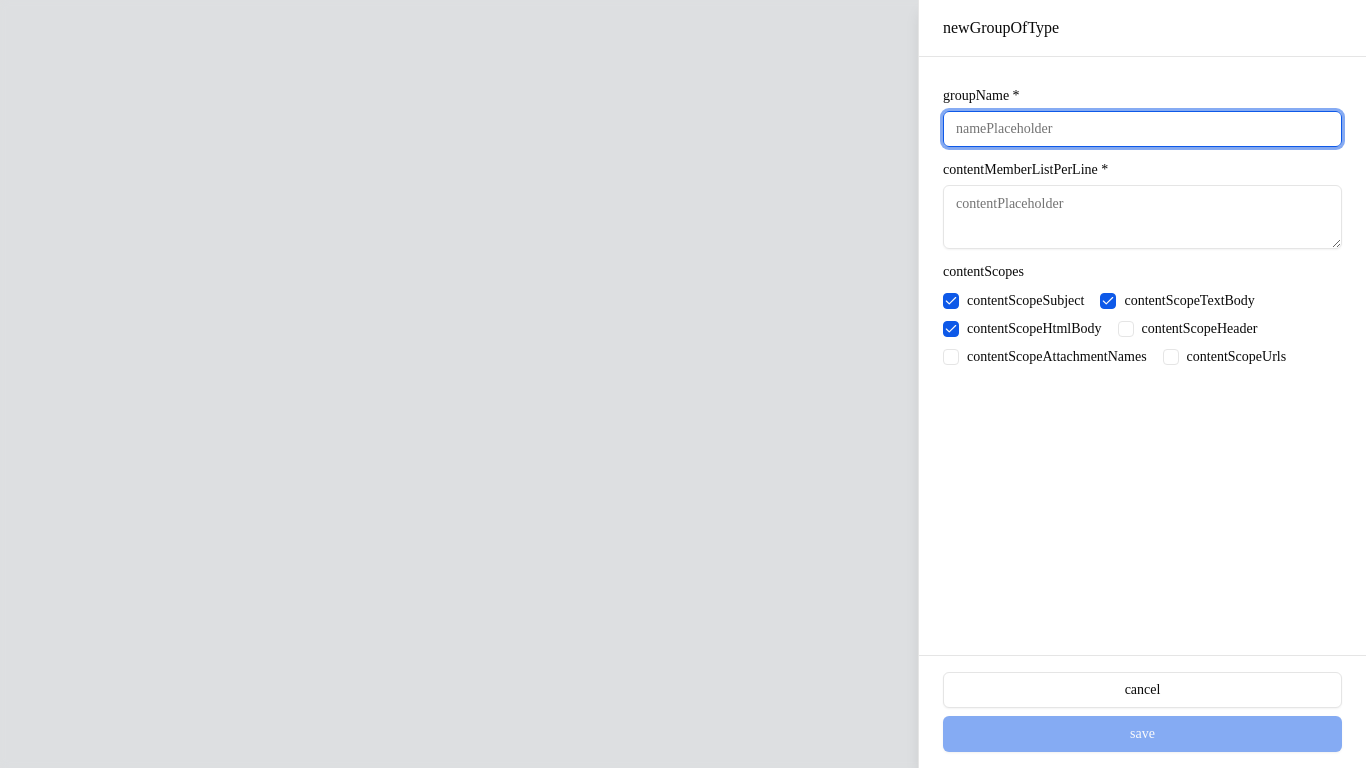
Test: GroupEditDialog content scopes (GT-12802) › keeps save disabled until at least one scope is chosen
The image size is (1366, 768).
Step 1. Type "fingroup" into the field with test id "group-edit-name" → {"x": 1142, "y": 129}, box [943,111,1342,147]
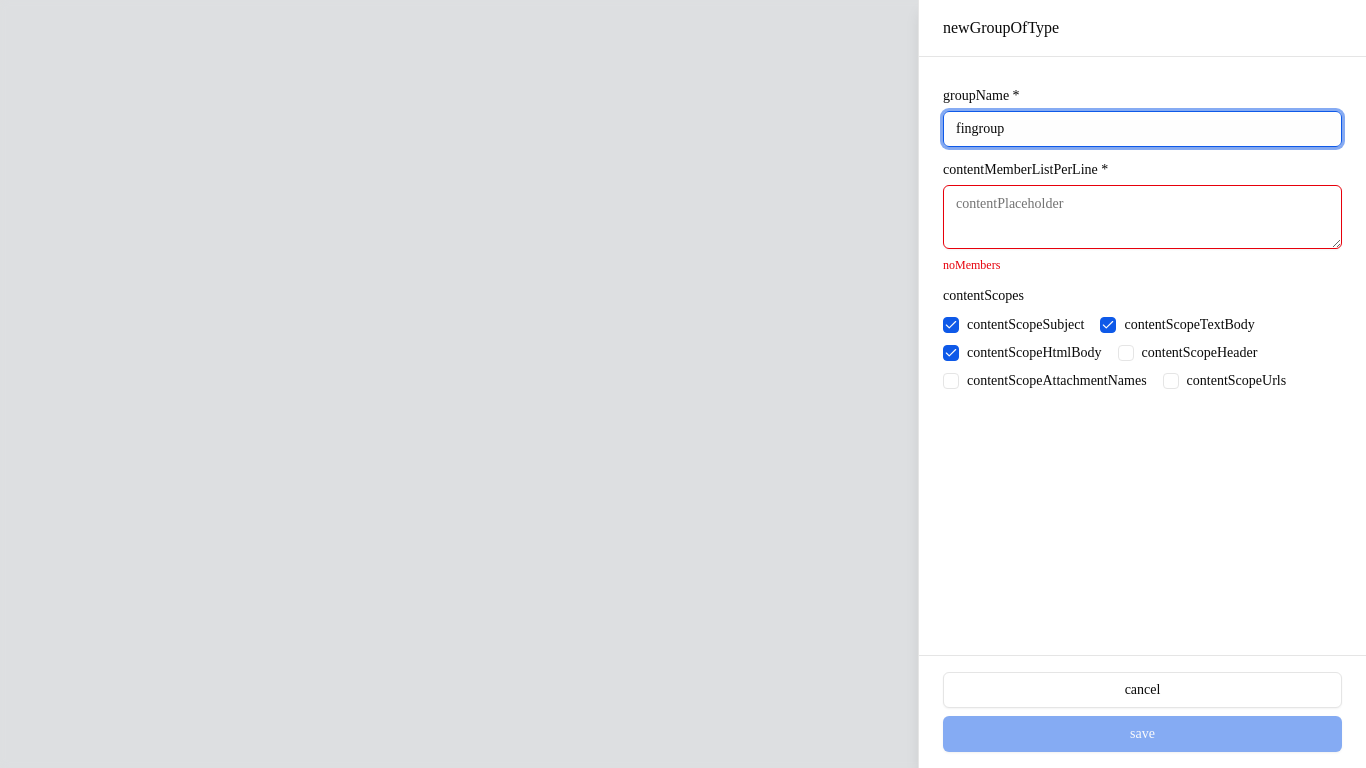
Step 2. Type "invoice" into the text box with test id "group-edit-members" → {"x": 1142, "y": 217}, box [943,185,1342,249]
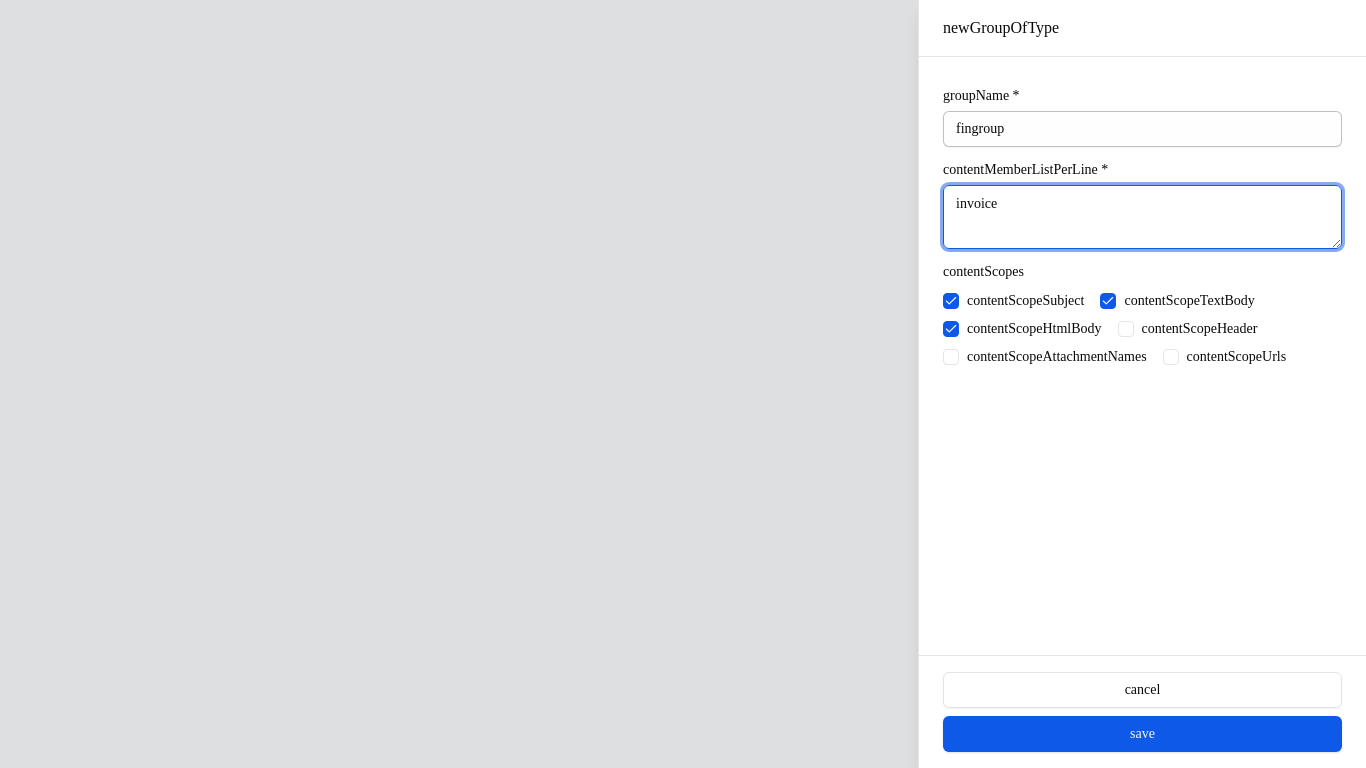
Note: 取消全部三个默认 scope
Step 3. Click the checkbox with test id "group-edit-scope-subject" → {"x": 951, "y": 301}, box [943,293,959,309]
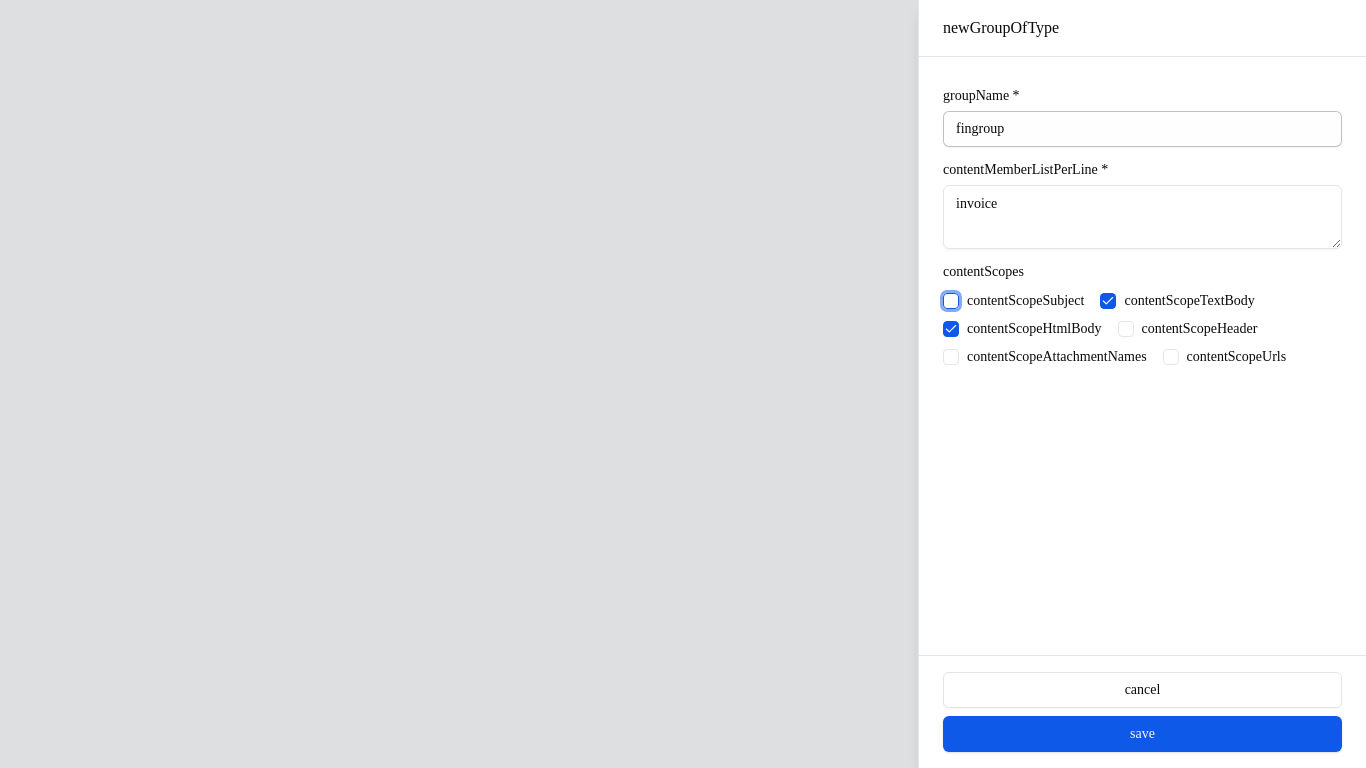
Step 4. Click the checkbox with test id "group-edit-scope-text_body" → {"x": 1108, "y": 301}, box [1100,293,1116,309]
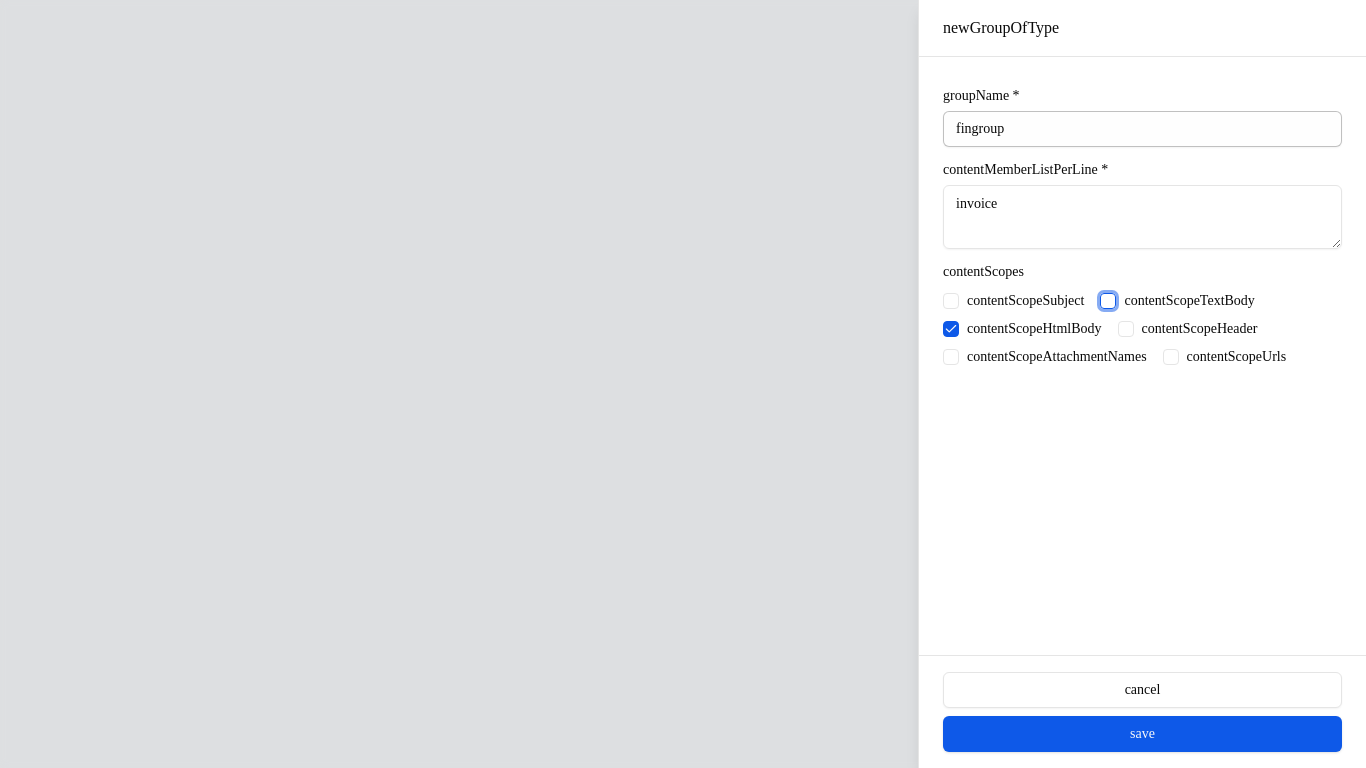
Step 5. Click the checkbox with test id "group-edit-scope-html_body" → {"x": 951, "y": 329}, box [943,321,959,337]
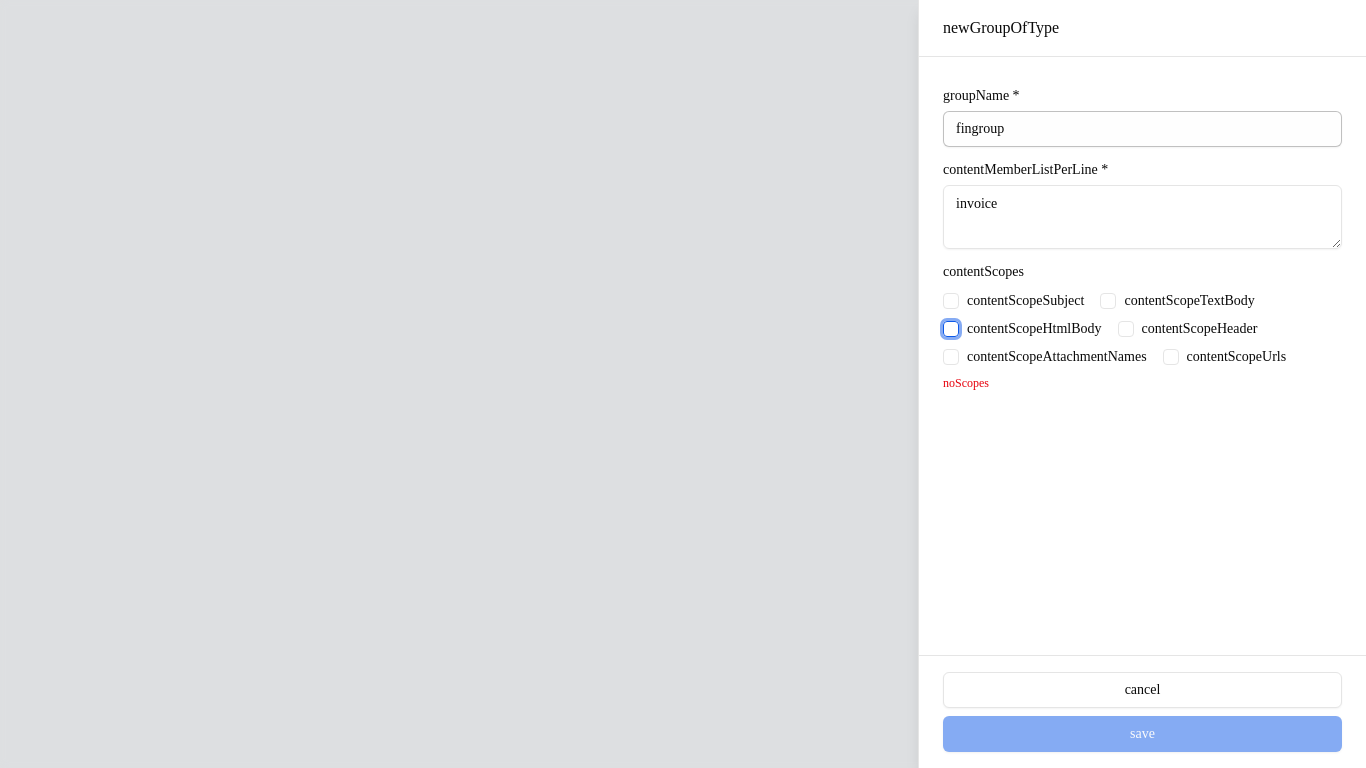
Check: the button with test id "group-edit-save" is disabled, box [943,716,1342,752]
Check: the text with test id "group-edit-scopes-error" reads "noScopes", box [943,376,989,390]
Note: 勾回一个，按钮恢复可用
Step 6. Click the checkbox with test id "group-edit-scope-subject" → {"x": 951, "y": 301}, box [943,293,959,309]
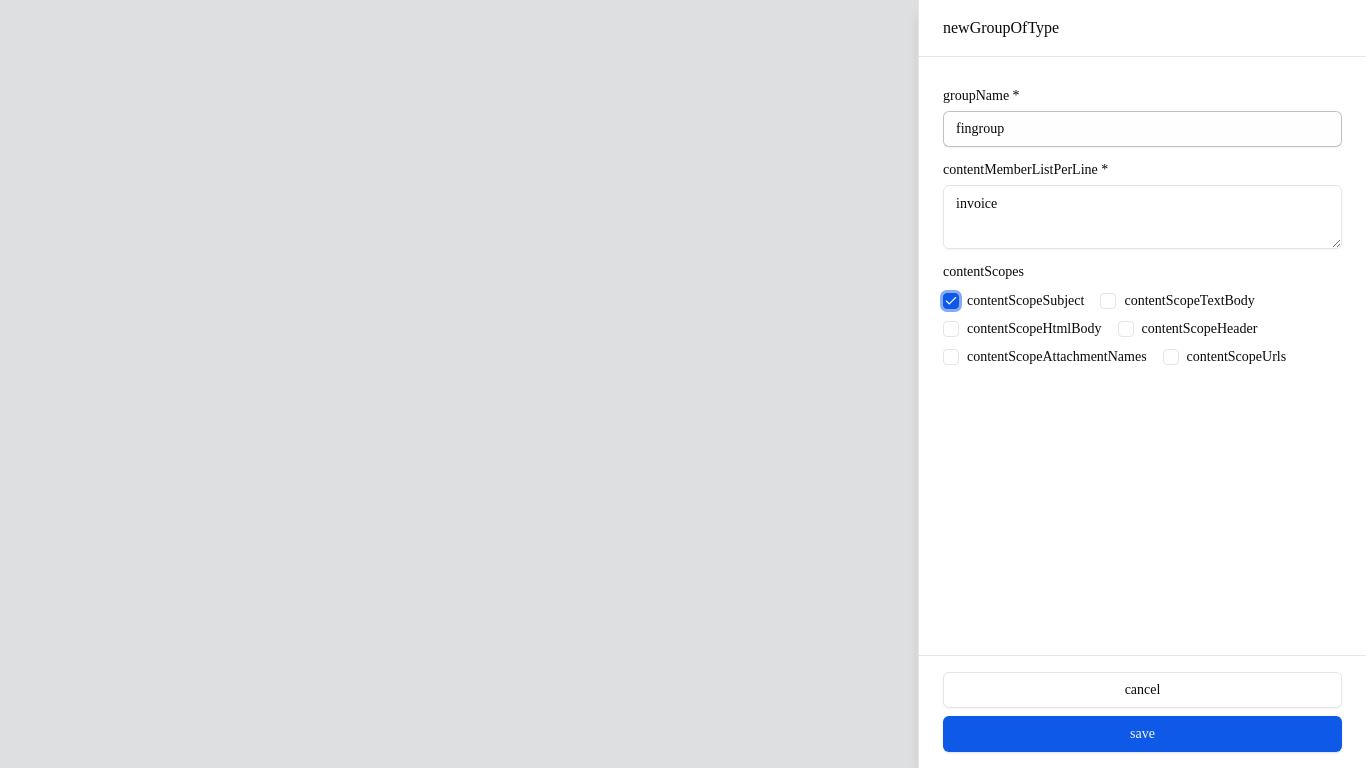
Check: the button with test id "group-edit-save" is enabled, box [943,716,1342,752]
